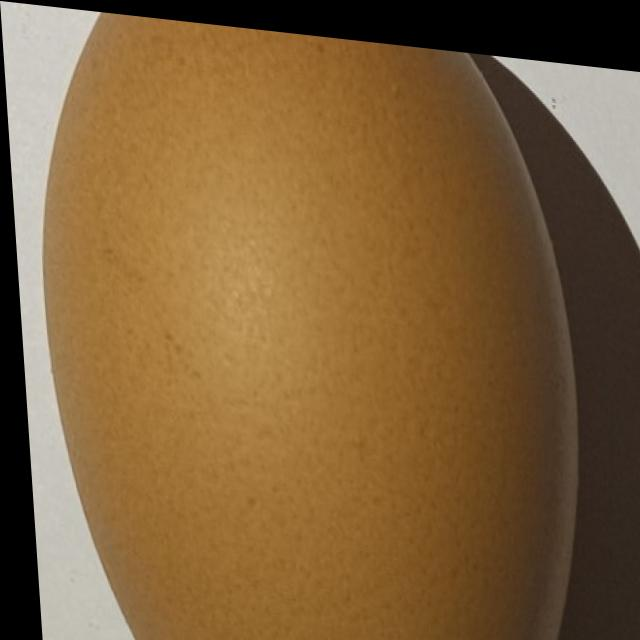fresh: (28, 2, 577, 640)
